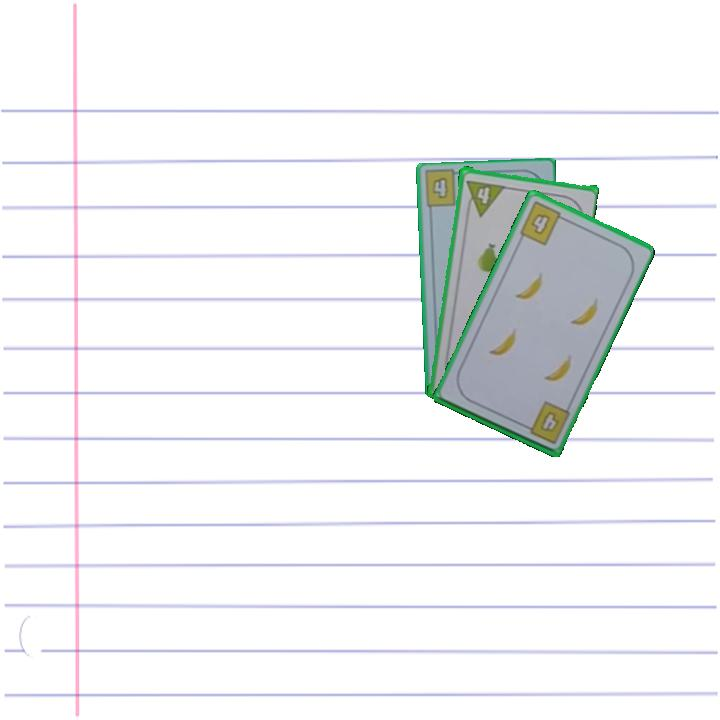4b: (519, 397, 573, 447), (516, 198, 569, 248), (428, 173, 451, 201)
4p: (462, 176, 507, 218)
